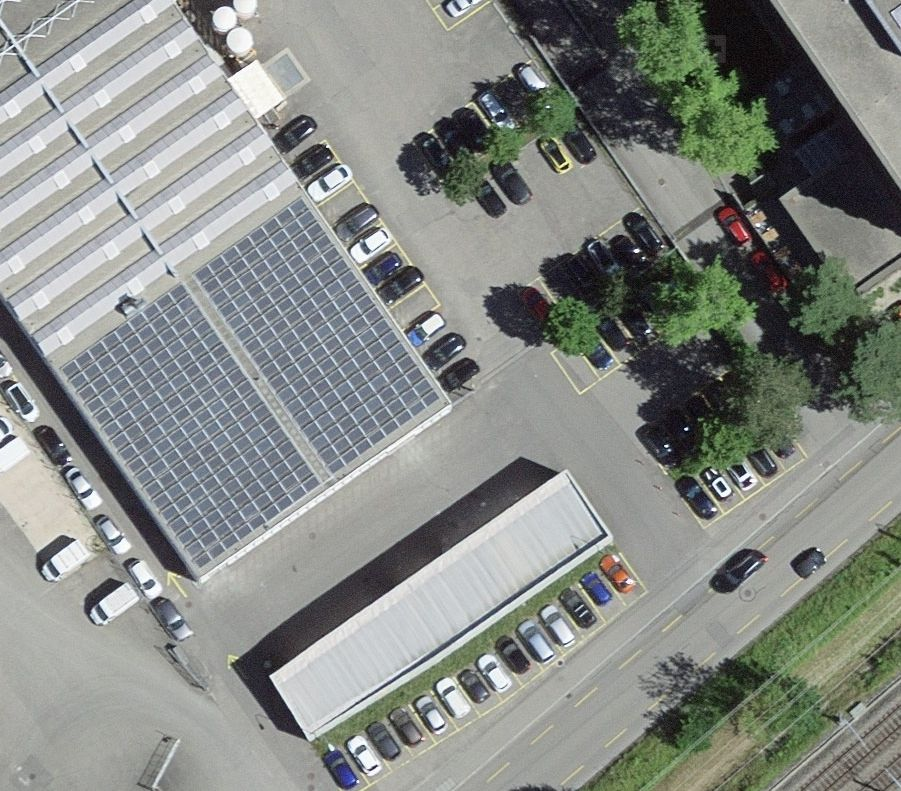solar: (55, 199, 440, 570)
